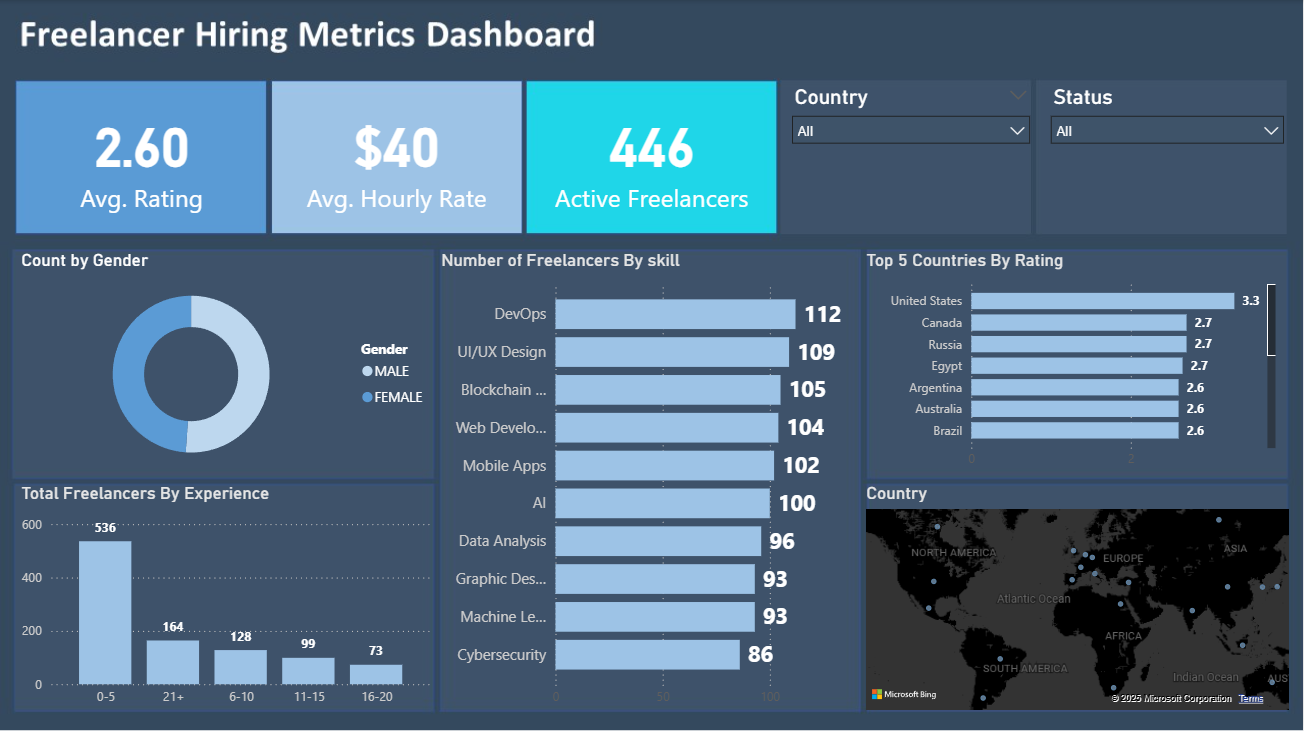

Layout of this report page (visuals, bound fields, positions):
{"tool":"powerbi","page":{"name":"Dashboard","canvas":[1280,720],"ordinal":0},"visuals":[{"type":"card","fields":{"Values":["global_freelancers_cleaned_new.Avgerage_rating"]},"box":[17.5,78.8,246.2,152.5],"z":0},{"type":"card","fields":{"Values":["global_freelancers_cleaned_new.Avergae_hourly_rate"]},"box":[263.8,78.8,253.8,152.5],"z":1000},{"type":"card","fields":{"Values":["global_freelancers_cleaned_new.Active_Freelancers"]},"box":[513.8,78.8,253.8,152.5],"z":2000},{"type":"donutChart","title":"Count by  Gender","fields":{"Category":["global_freelancers_cleaned_new.Gender"],"Y":["CountNonNull(global_freelancers_cleaned_new.Gender)"]},"box":[17.2,245.4,412.3,223.3],"z":3000},{"type":"slicer","fields":{"Values":["global_freelancers_cleaned_new.country","global_freelancers_cleaned_new.language"]},"box":[768.1,78.5,254,152.1],"z":4000},{"type":"clusteredBarChart","title":"Number of Freelancers By skill","fields":{"Category":["global_freelancers_cleaned_new.primary_skill"],"Y":["global_freelancers_cleaned_new.Total_freelancers"]},"box":[429.5,245.4,417.2,456.4],"z":5000},{"type":"clusteredColumnChart","title":"Total Freelancers By Experience","fields":{"Category":["global_freelancers_cleaned_new.Experience Bucket"],"Y":["global_freelancers_cleaned_new.Total_freelancers"]},"box":[17.2,473.6,412.3,228.2],"z":6000},{"type":"slicer","fields":{"Values":["global_freelancers_cleaned_new.Status"]},"box":[1022.1,78.5,249.1,152.1],"z":7000},{"type":"map","fields":{"Category":["global_freelancers_cleaned_new.country"]},"box":[846.7,473.4,424,227.8],"z":8000},{"type":"clusteredBarChart","title":"Top 5 Countries By Rating","fields":{"Category":["global_freelancers_cleaned_new.country"],"Y":["global_freelancers_cleaned_new.Avgerage_rating"]},"box":[846.7,245.6,411.7,223.7],"z":9000}]}

Visuals, with their boxes in screenshot pixels (x1, y1, x2, y2), scaled from the page's 1280x720 canvas onto the 1304x731 screenshot:
card - global_freelancers_cleaned_new.Avgerage_rating: 18:80:269:235
card - global_freelancers_cleaned_new.Avergae_hourly_rate: 269:80:527:235
card - global_freelancers_cleaned_new.Active_Freelancers: 523:80:782:235
"Count by  Gender" donutChart: 18:249:438:476
slicer - global_freelancers_cleaned_new.country x global_freelancers_cleaned_new.language: 783:80:1041:234
"Number of Freelancers By skill" clusteredBarChart: 438:249:863:713
"Total Freelancers By Experience" clusteredColumnChart: 18:481:438:713
slicer - global_freelancers_cleaned_new.Status: 1041:80:1295:234
map - global_freelancers_cleaned_new.country: 863:481:1295:712
"Top 5 Countries By Rating" clusteredBarChart: 863:249:1282:476
